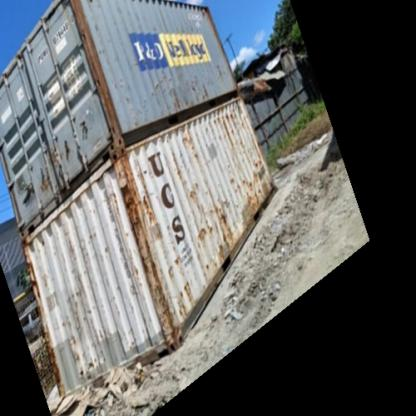Damage: (117, 162, 194, 337), (62, 278, 108, 384), (154, 62, 214, 112), (209, 204, 238, 265), (228, 170, 264, 210), (214, 108, 247, 150), (87, 227, 112, 259), (178, 130, 202, 156), (64, 233, 77, 264), (90, 19, 106, 35), (132, 115, 146, 130), (120, 87, 132, 103), (197, 226, 209, 240), (253, 157, 264, 169), (217, 65, 228, 77)
